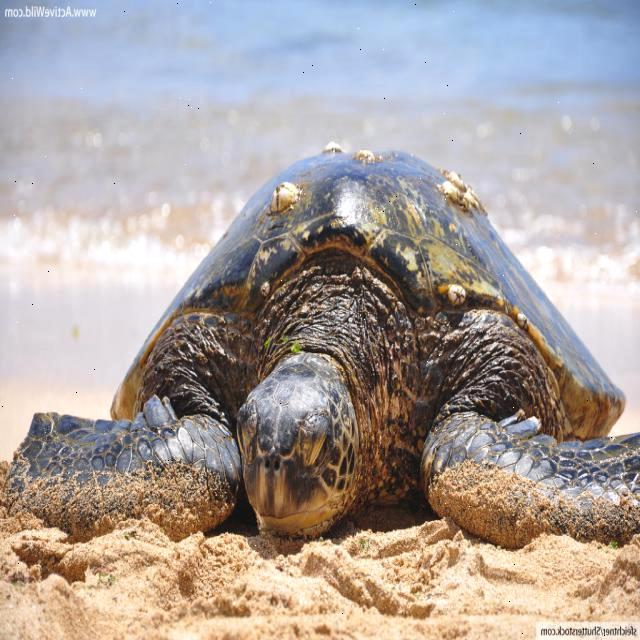tortoise: (12, 144, 640, 558)
